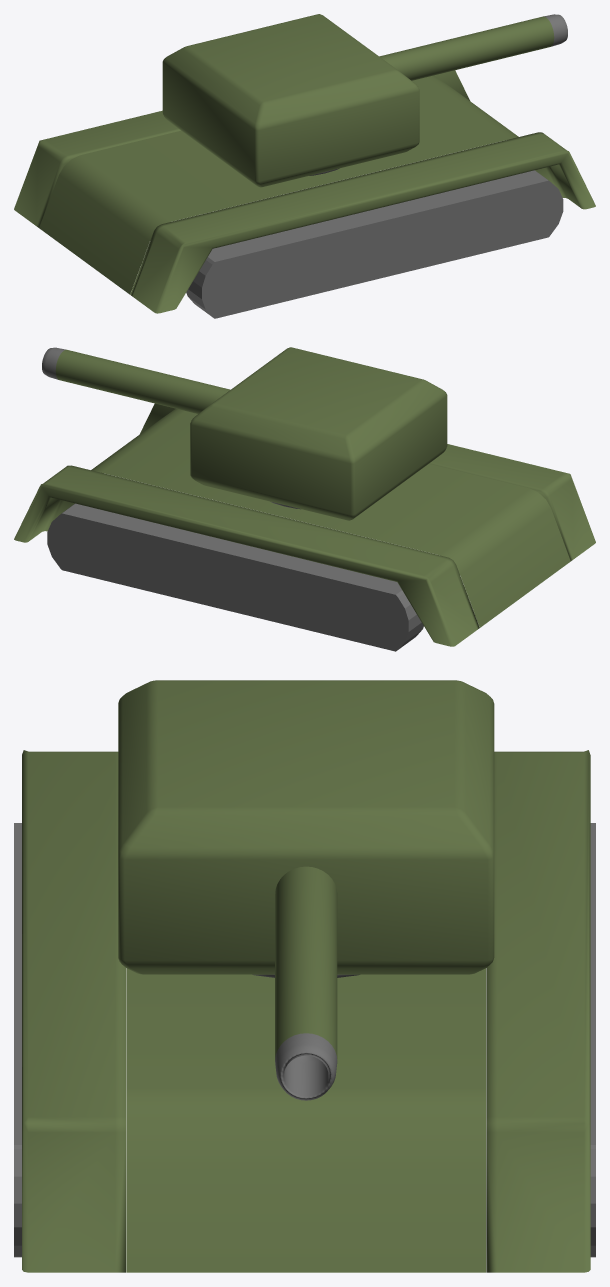
The model's file is PlayerTank.fbx.
3 views of the same model, one above another, from view 1: azimuth 30°, elevation 25°; view 2: azimuth 150°, elevation 25°; view 3: azimuth 270°, elevation 25° (orthographic). The views are drawn at different scales.
Visible parts, largest first — view 1: MainBody, Turret, Track2, Rohr; view 2: MainBody, Turret, Track1, Rohr; view 3: MainBody, Turret, Rohr, Track2, Track1.
Part boxes in pixels (box(x1,y1,x2,y2)): MainBody: box(14, 70, 595, 313); Turret: box(162, 14, 419, 187); Track2: box(186, 170, 563, 318); Rohr: box(379, 14, 567, 80); MainBody: box(14, 403, 595, 646); Turret: box(190, 347, 447, 520); Track1: box(47, 503, 423, 651); Rohr: box(42, 347, 230, 413); MainBody: box(22, 750, 590, 1272); Turret: box(118, 680, 494, 974); Rohr: box(275, 866, 337, 1100); Track2: box(14, 823, 21, 1257); Track1: box(590, 823, 595, 1257).
Size of the model in its own units: 134 by 45.6 by 71.58.
